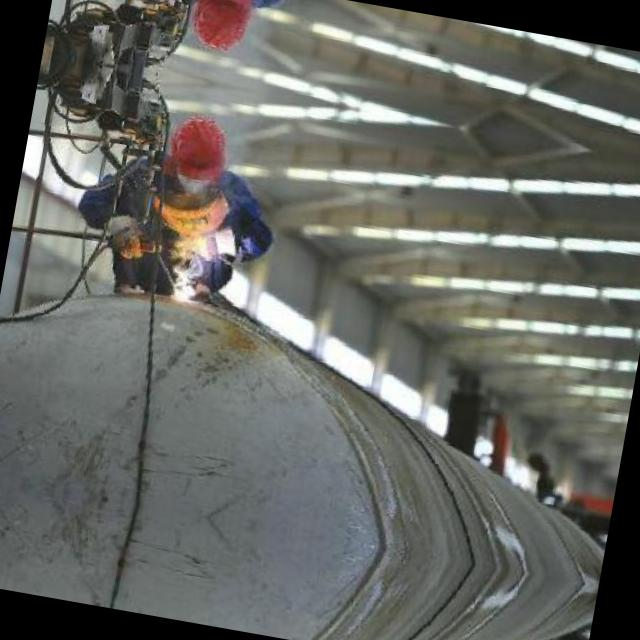helmet: (156, 102, 238, 194), (180, 0, 261, 61)
